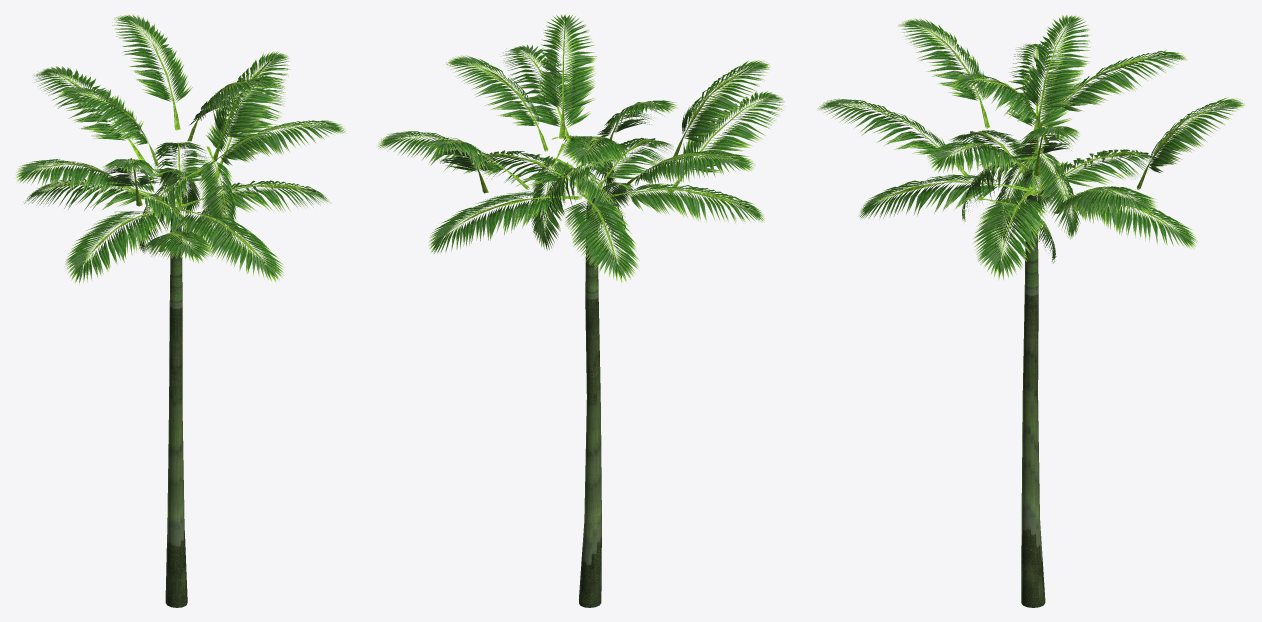
The model's file is tree_royal_palm.gltf.
3 views of the same model, side by side, from view 1: azimuth 30°, elevation 25°; view 2: azimuth 150°, elevation 25°; view 3: azimuth 270°, elevation 25° (orthographic). The views are drawn at different scales.
Parts seen in each view (by area): view 1: ID1233; view 2: ID1233; view 3: ID1233.
Boxes of the visible parts, x1=… form: ID1233: x1=16, y1=14, x2=346, y2=607; ID1233: x1=378, y1=14, x2=784, y2=607; ID1233: x1=817, y1=14, x2=1245, y2=607.
Size of the model in its own units: 5.57 by 9 by 6.38.
Materials: 4 (4 with a texture image).
